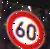Speed Limit -60-: (4, 5, 45, 49)
